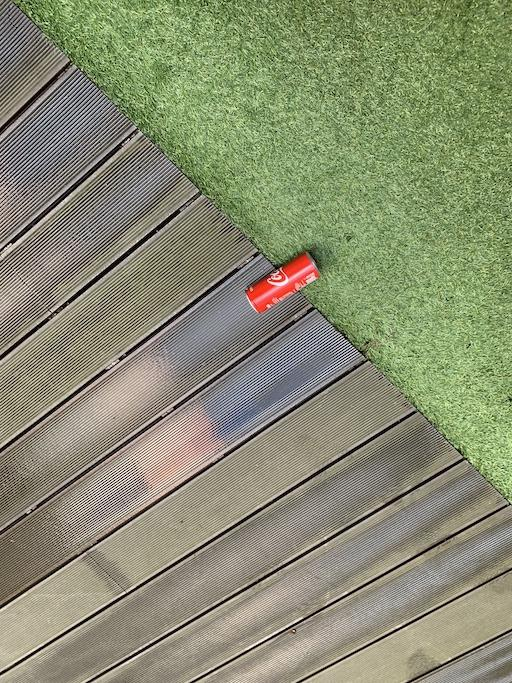Aluminum can: (236, 240, 332, 338)
